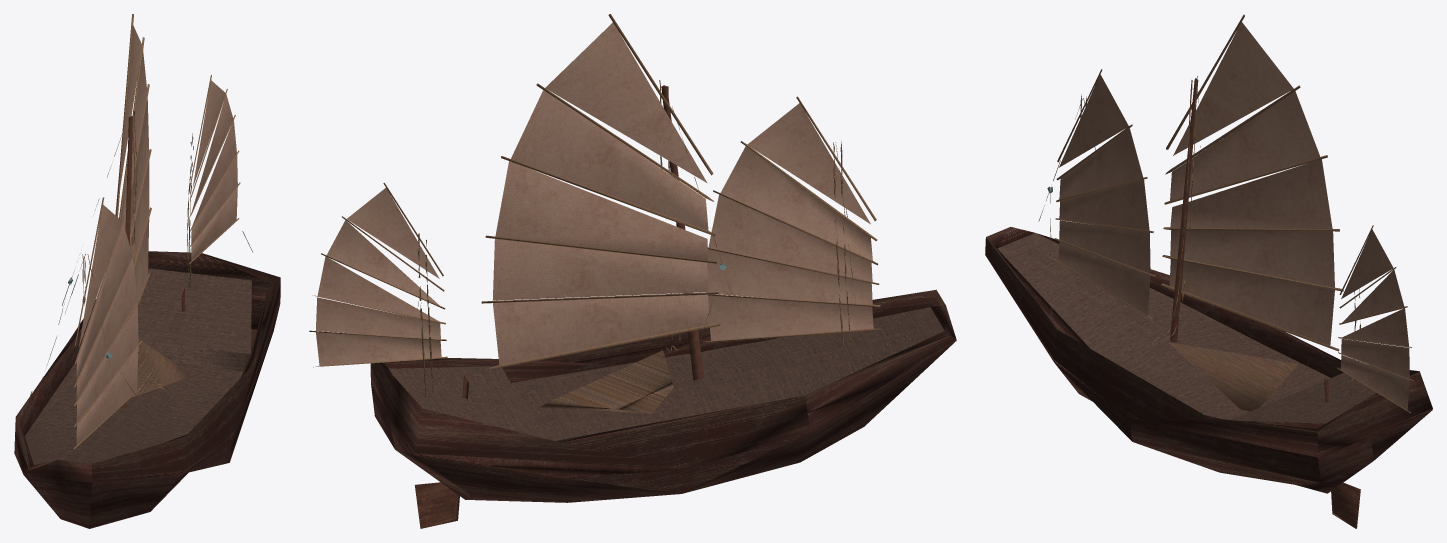
Rendered from tau-buom-2.glb.
3 renders of one model, left to right at view 1: azimuth 30°, elevation 25°; view 2: azimuth 150°, elevation 25°; view 3: azimuth 270°, elevation 25°, orthographic. The views are drawn at different scales.
Parts seen in each view (by area): view 1: Cube.089_Lantai junk_0, Cube.089_Material.008_0, Cube.089_badan junk_0, Cube.089_Kayu gantung Layar Junk_0, Cube.089_Cabin junk_0, Cube.089_tiang junk_0, Cube.089_rope.001_0; view 2: Cube.089_Material.008_0, Cube.089_badan junk_0, Cube.089_Lantai junk_0, Cube.089_Kayu gantung Layar Junk_0, Cube.089_Cabin junk_0, Cube.089_tiang junk_0, Cube.089_rope.001_0; view 3: Cube.089_Material.008_0, Cube.089_badan junk_0, Cube.089_Lantai junk_0, Cube.089_Kayu gantung Layar Junk_0, Cube.089_Cabin junk_0, Cube.089_tiang junk_0.
Part boxes in pixels (x1=…): Cube.089_Lantai junk_0: x1=25, y1=268, x2=251, y2=464; Cube.089_Material.008_0: x1=76, y1=26, x2=237, y2=444; Cube.089_badan junk_0: x1=14, y1=251, x2=280, y2=528; Cube.089_Kayu gantung Layar Junk_0: x1=73, y1=14, x2=240, y2=449; Cube.089_Cabin junk_0: x1=130, y1=339, x2=189, y2=398; Cube.089_tiang junk_0: x1=120, y1=116, x2=185, y2=408; Cube.089_rope.001_0: x1=23, y1=133, x2=252, y2=441; Cube.089_Material.008_0: x1=315, y1=22, x2=873, y2=366; Cube.089_badan junk_0: x1=370, y1=289, x2=956, y2=502; Cube.089_Lantai junk_0: x1=389, y1=307, x2=944, y2=440; Cube.089_Kayu gantung Layar Junk_0: x1=309, y1=14, x2=881, y2=369; Cube.089_Cabin junk_0: x1=539, y1=350, x2=673, y2=413; Cube.089_tiang junk_0: x1=414, y1=85, x2=704, y2=528; Cube.089_rope.001_0: x1=417, y1=106, x2=863, y2=402; Cube.089_Material.008_0: x1=1058, y1=22, x2=1409, y2=410; Cube.089_badan junk_0: x1=985, y1=227, x2=1432, y2=493; Cube.089_Lantai junk_0: x1=997, y1=233, x2=1376, y2=423; Cube.089_Kayu gantung Layar Junk_0: x1=1054, y1=14, x2=1413, y2=413; Cube.089_Cabin junk_0: x1=1168, y1=342, x2=1298, y2=411; Cube.089_tiang junk_0: x1=1170, y1=78, x2=1360, y2=528.
Bounding box in the file's own units: 0.9189 × 0.9996 × 0.8867.
Materials: 8 (7 with a texture image).
